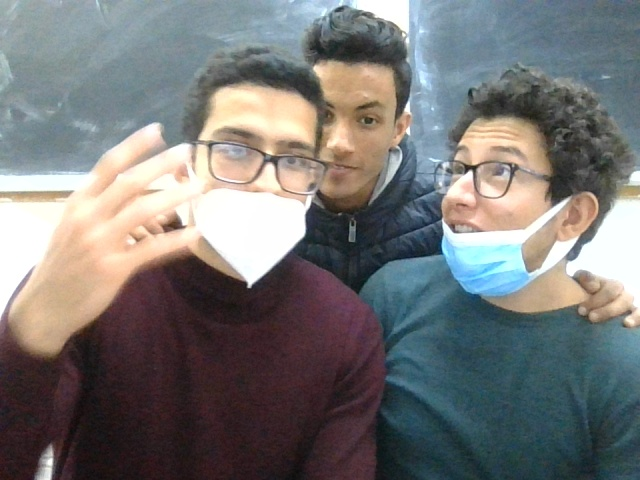mask_weared_incorrect: (433, 65, 618, 293), (189, 44, 318, 286)
without_mask: (317, 11, 426, 201)
